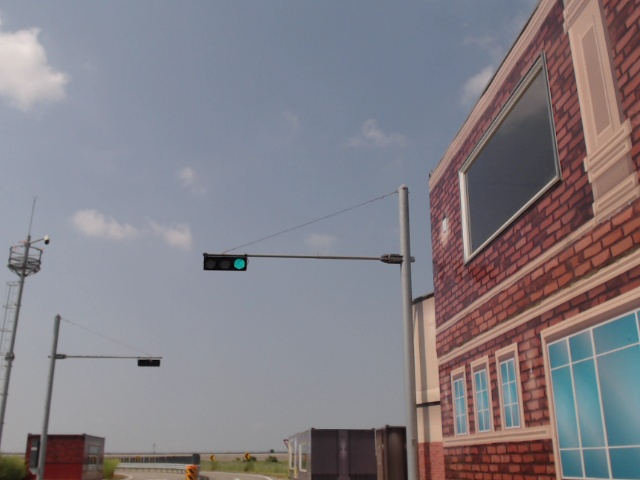green_3: (204, 256, 247, 271)
